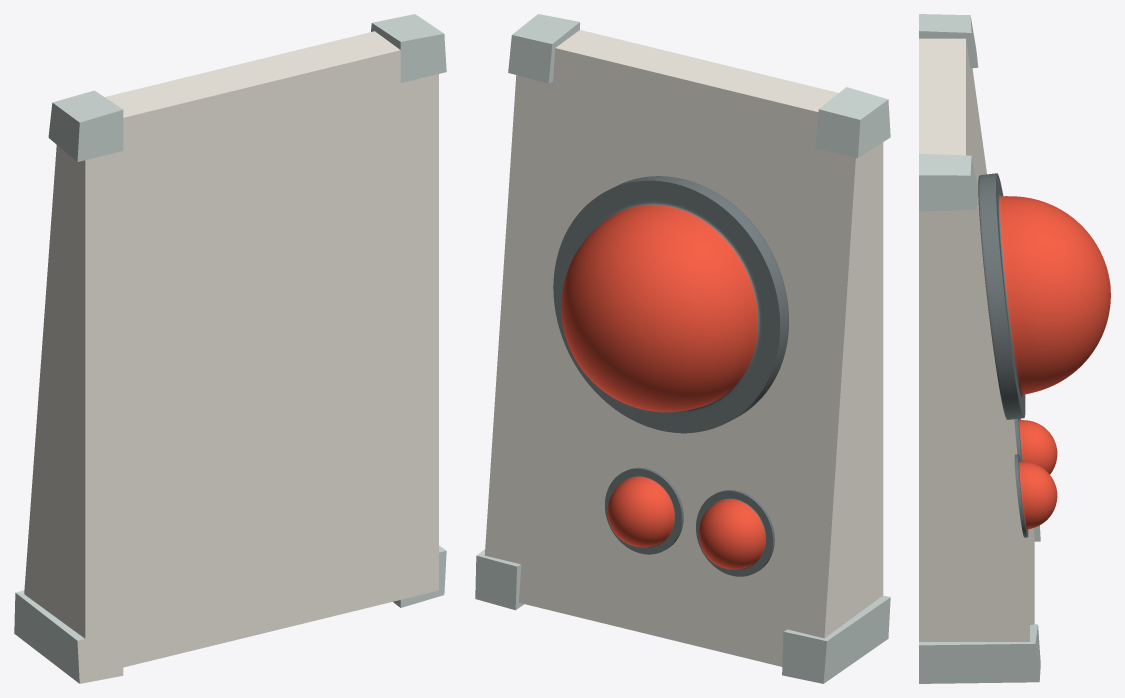
The model's file is DoorButton.fbx.
3 views of the same model, side by side, from view 1: azimuth 30°, elevation 25°; view 2: azimuth 150°, elevation 25°; view 3: azimuth 270°, elevation 25° (orthographic). The views are drawn at different scales.
Visible parts, largest first — view 1: Cube; view 2: Cube, Sphere, Sphere.001, Sphere.002; view 3: Cube, Sphere, Sphere.001, Sphere.002.
Boxes of the visible parts, box(x1,y1,x2,y2) form: Cube: box(14, 14, 446, 683); Cube: box(475, 14, 890, 683); Sphere: box(553, 176, 788, 433); Sphere.001: box(605, 467, 683, 554); Sphere.002: box(696, 490, 774, 576); Cube: box(919, 14, 1040, 683); Sphere: box(978, 173, 1110, 419); Sphere.001: box(1014, 454, 1057, 537); Sphere.002: box(1014, 418, 1057, 474).
Bounding box in the file's own units: 28.39 × 41.59 × 14.09.
